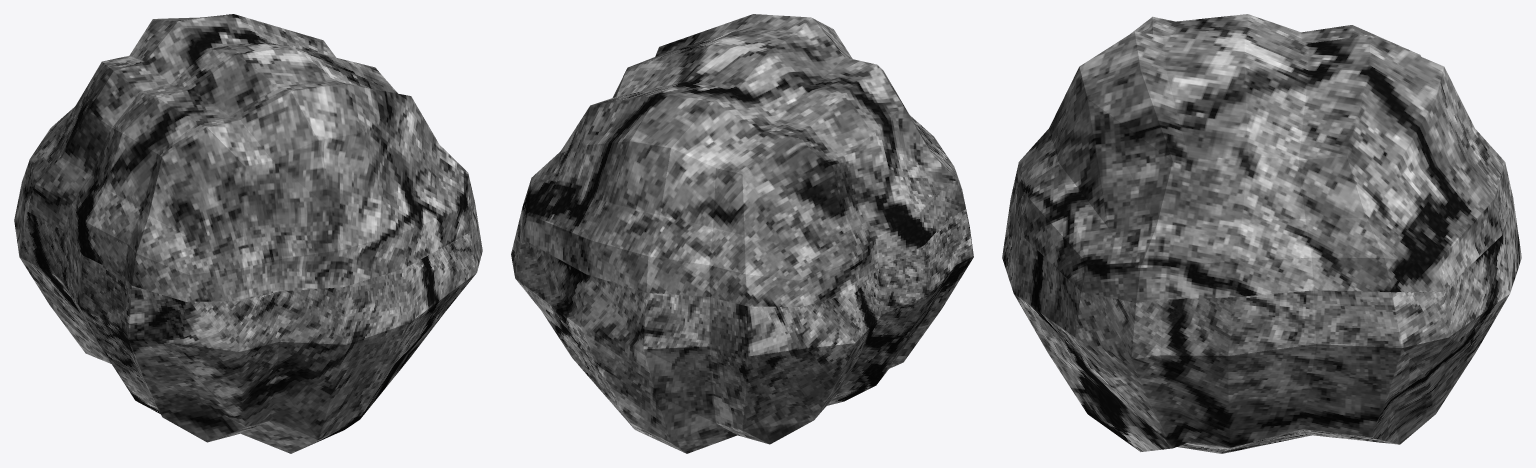
The model's file is meteorite.obj.
3 views of the same model, side by side, from view 1: azimuth 30°, elevation 25°; view 2: azimuth 150°, elevation 25°; view 3: azimuth 270°, elevation 25° (orthographic). The views are drawn at different scales.
Parts seen in each view (by area): view 1: Mesh_Cube_Cube_Material; view 2: Mesh_Cube_Cube_Material; view 3: Mesh_Cube_Cube_Material.
Part boxes in pixels (left/top/right/bottom): Mesh_Cube_Cube_Material: left=14, top=14, right=482, bottom=453; Mesh_Cube_Cube_Material: left=511, top=14, right=973, bottom=453; Mesh_Cube_Cube_Material: left=1002, top=14, right=1521, bottom=453.
Size of the model in its own units: 3.48 by 3.39 by 3.97.
